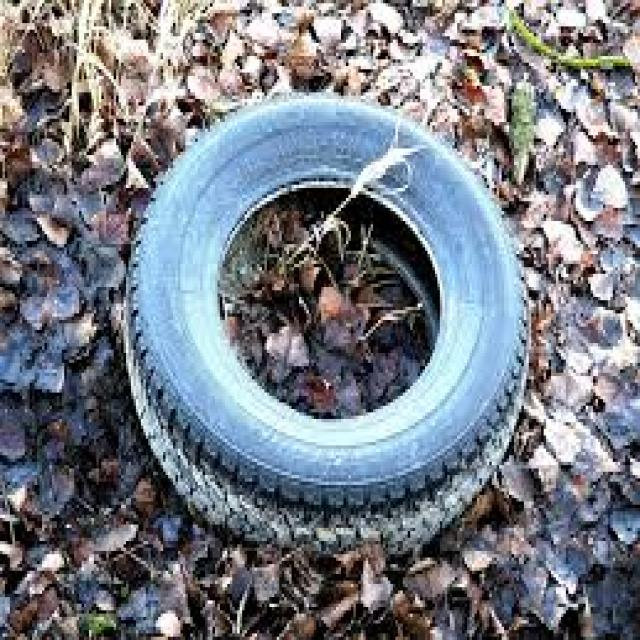Rubber -Non-Biodegradable but Recyclable-: (117, 98, 528, 555)
